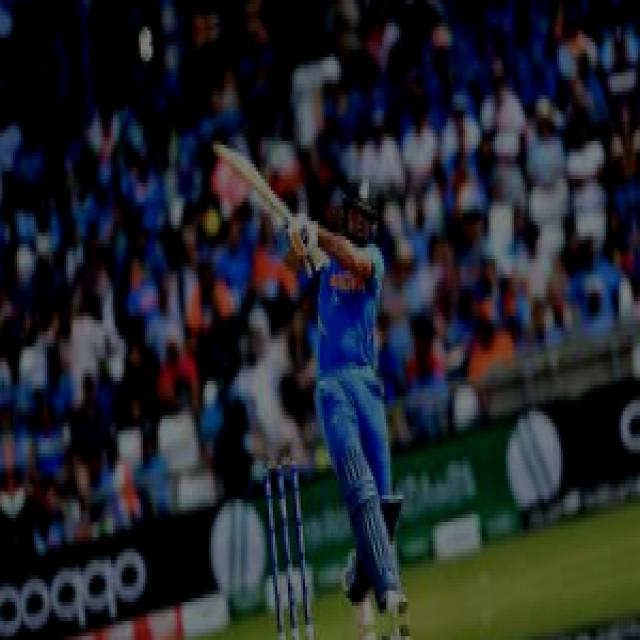toe: (208, 134, 231, 163)
